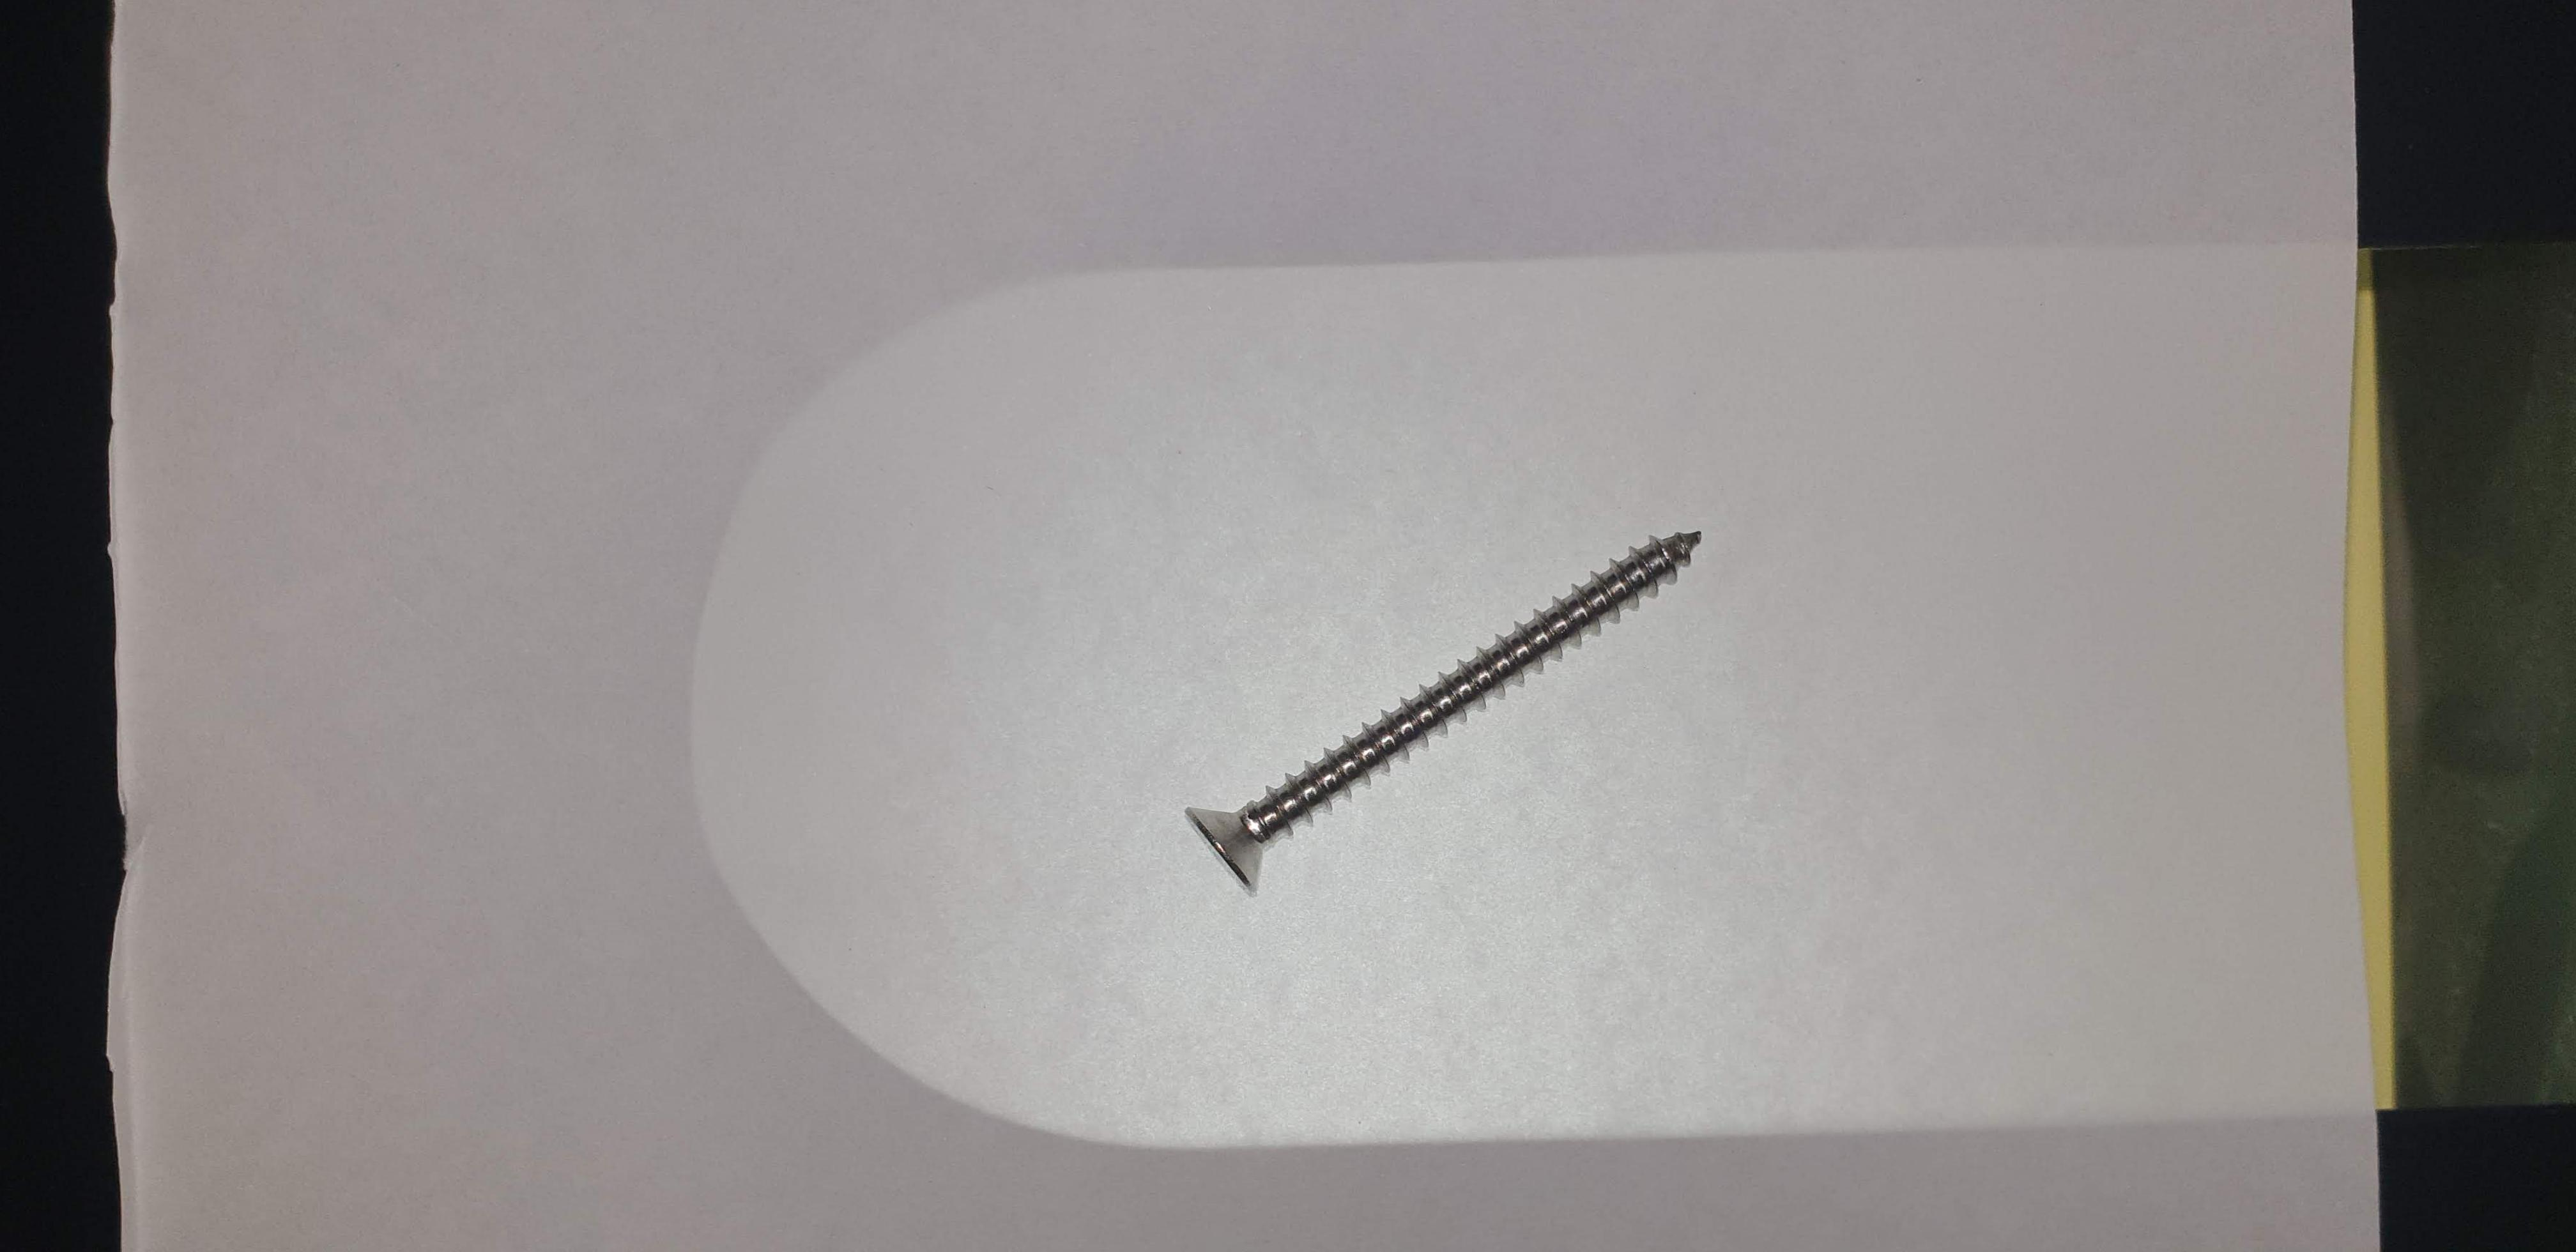fastener: (1117, 465, 1801, 923)
